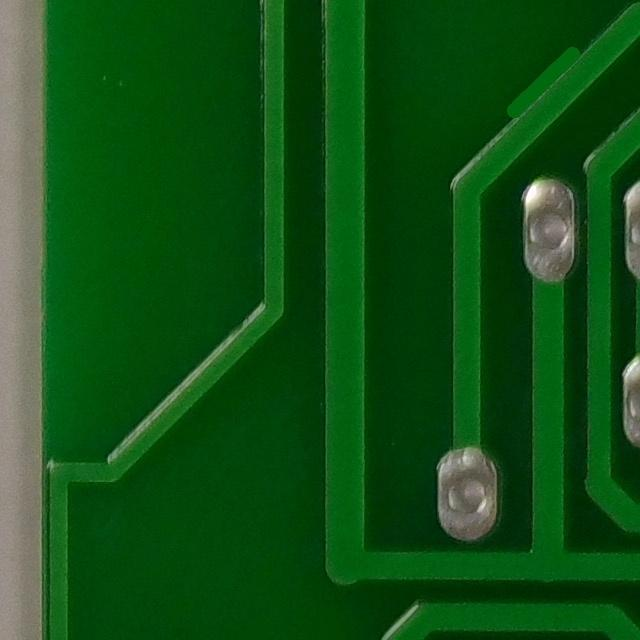spur: (481, 34, 599, 123)
